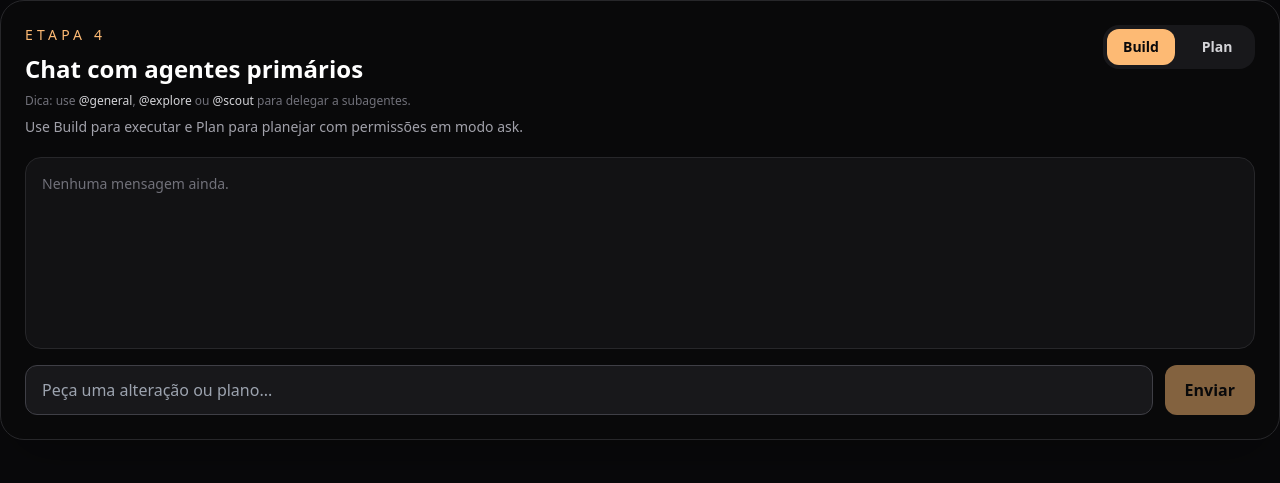
Test case: ChatPanel › switches agent and sends message
Click the button "Plan" at (1217, 47), box [1183,29,1251,65]
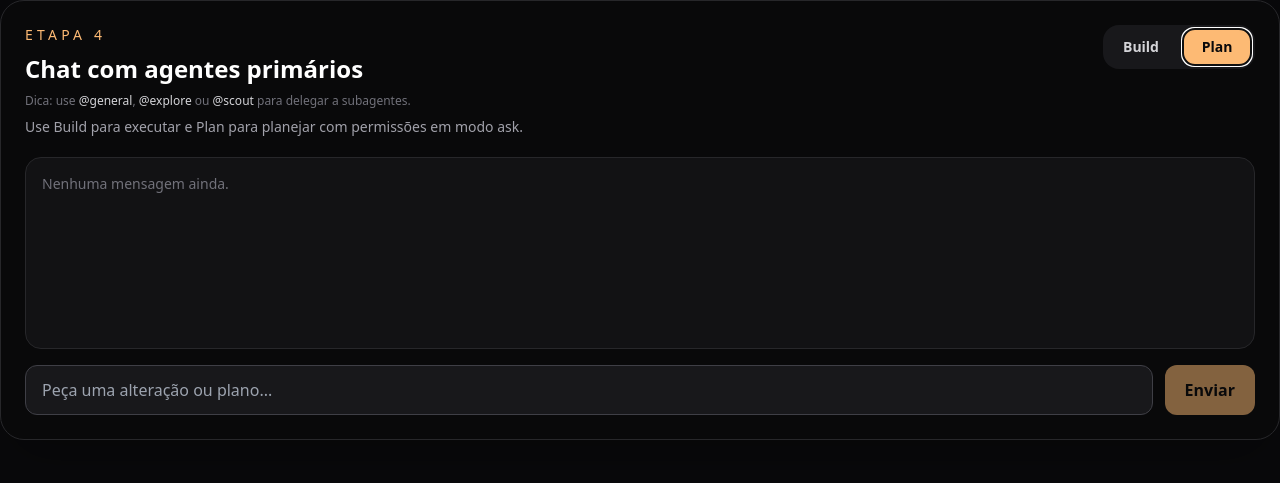
Type "Planeje" into the field with placeholder "Peça uma alteração ou plano..." at (589, 390), box [25,365,1153,415]
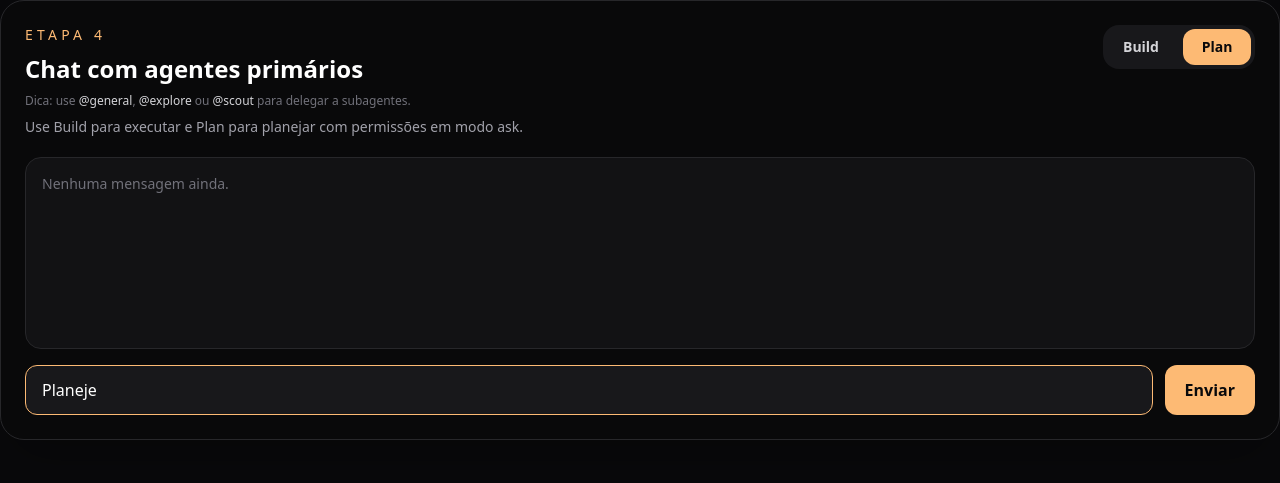
Click the button "Enviar" at (1210, 390), box [1165,365,1255,415]
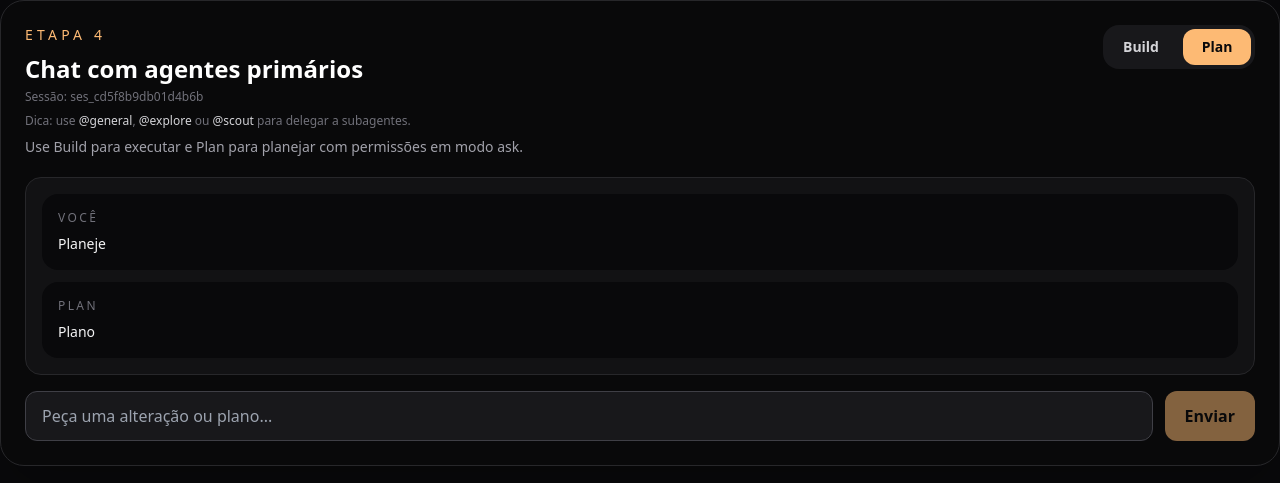
Result: the text "Plano" is shown at [58,322,95,341]
